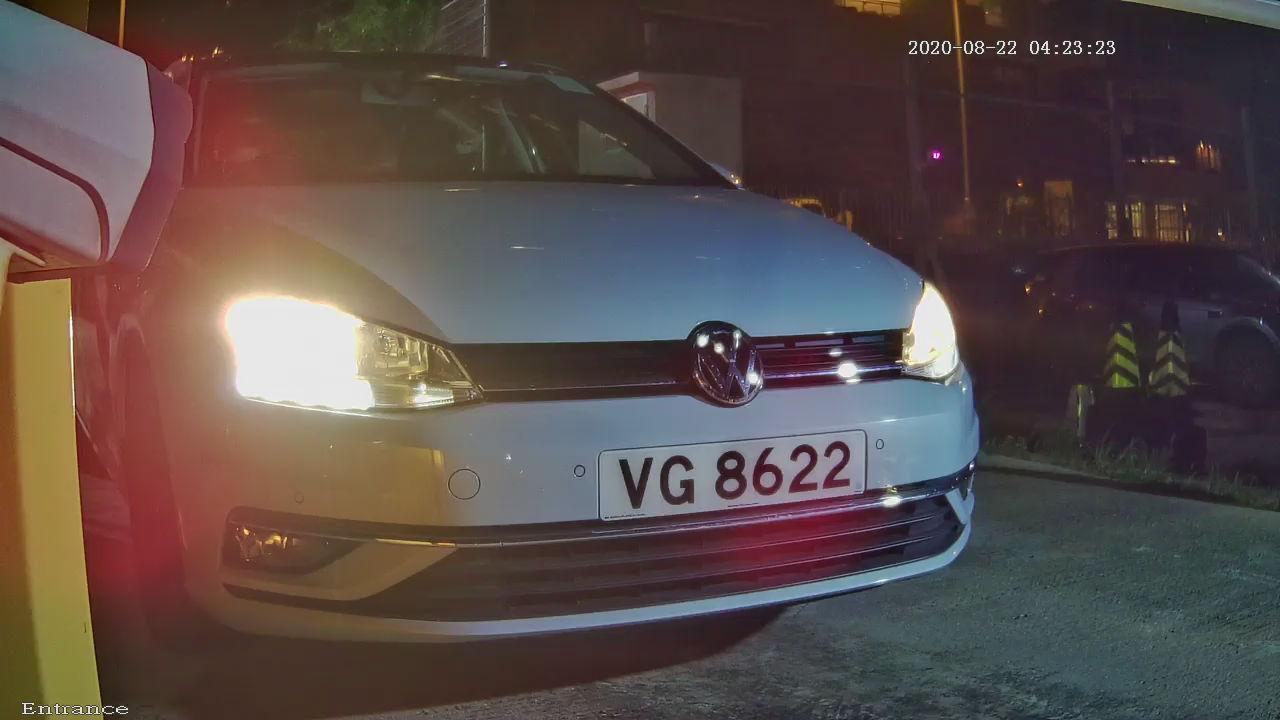Car: (12, 17, 1121, 695)
License Plate: (566, 391, 924, 569)
